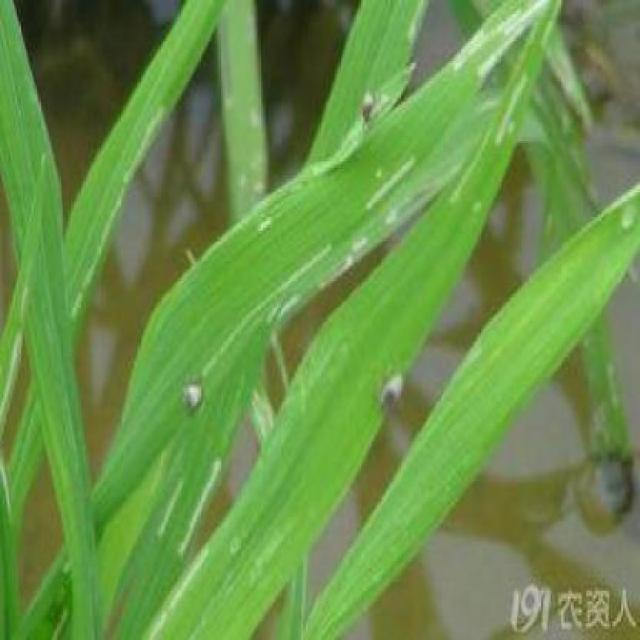rice-bug: (378, 370, 404, 415), (360, 80, 377, 126), (185, 378, 203, 417)
